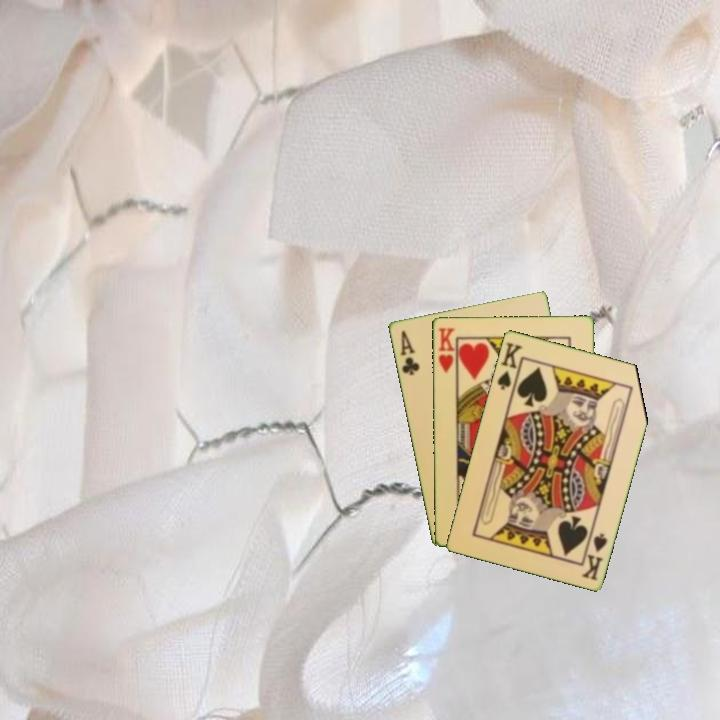Ac: (396, 326, 422, 378)
Kh: (434, 324, 458, 379)
Ks: (578, 529, 610, 583), (493, 338, 524, 392)
